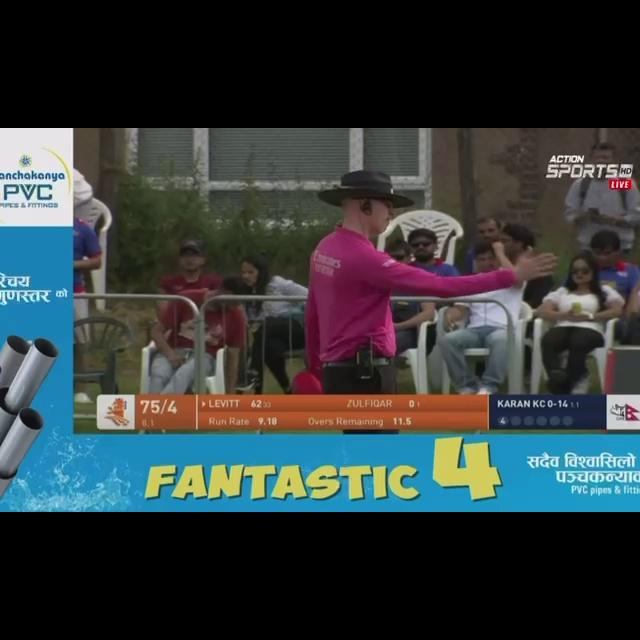umpire: (267, 138, 569, 389)
